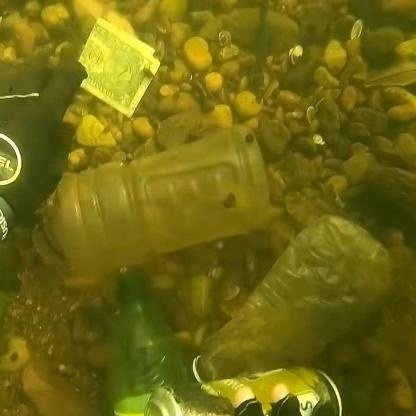can: (123, 368, 357, 416)
pbottle: (30, 148, 279, 248), (207, 220, 379, 361), (105, 274, 188, 388)
